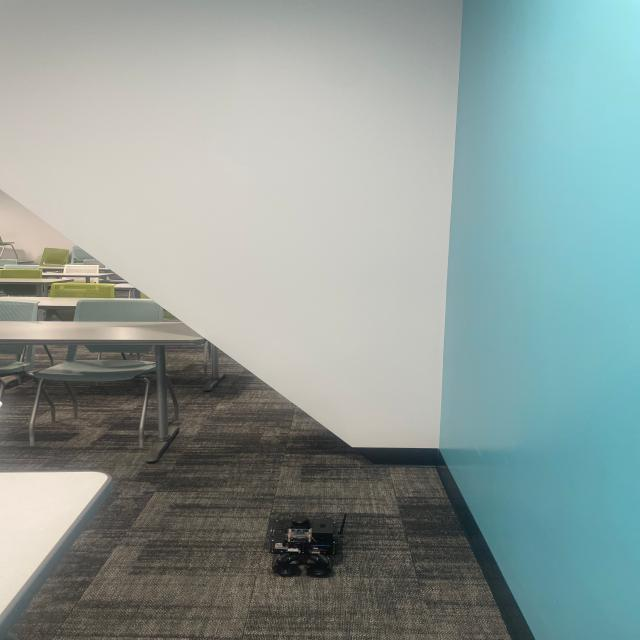ArduinoCar: (262, 508, 348, 580)
